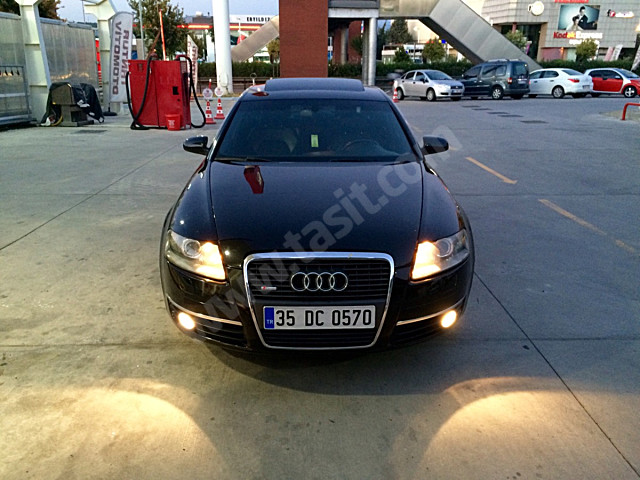audi: (285, 267, 351, 300)
